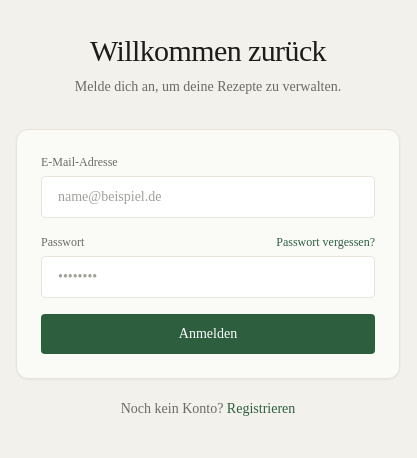
LoginForm (login page) › shows the unconfirmed-email message on 'Email not confirmed'
The image size is (417, 458).
Type "u@example.com" into the field labelled "E-Mail-Adresse" at (208, 197), box [41, 176, 375, 218]
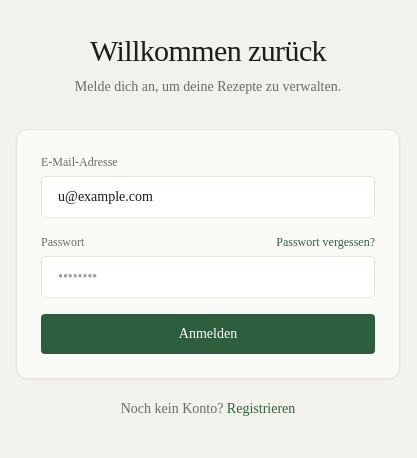
Type "secret123" into the password field labelled "Passwort" at (208, 277), box [41, 256, 375, 298]
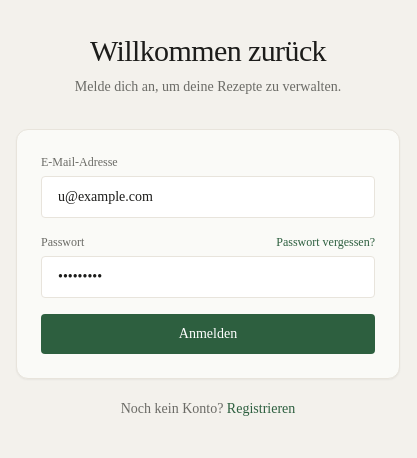
Click the button "Anmelden" at (208, 334), box [41, 314, 375, 354]
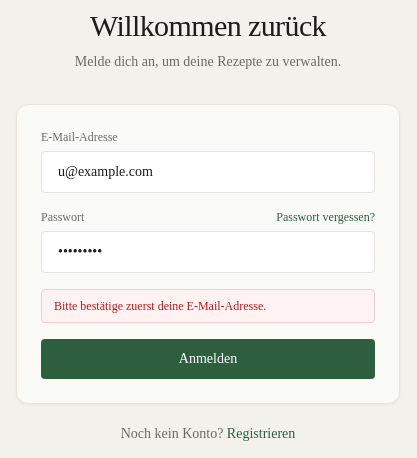
Check: the message reads "Bitte bestätige zuerst deine E-Mail-Adresse.", box [54, 299, 266, 313]
